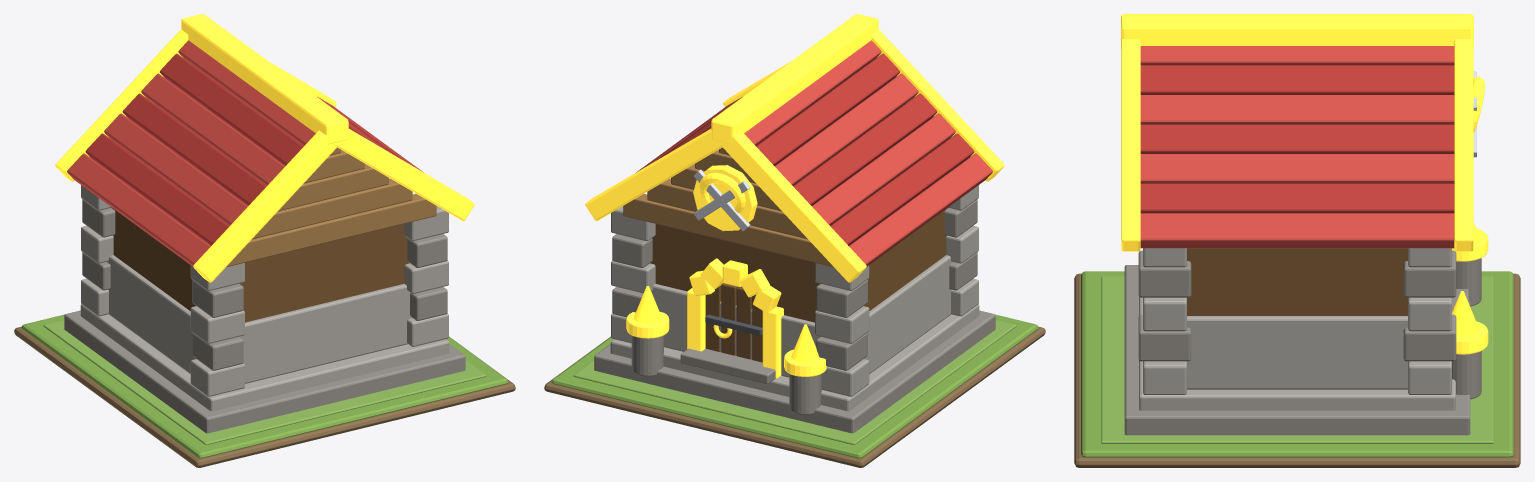
Rendered from hero_hall_lv2.glb.
3 views of the same model, side by side, from view 1: azimuth 30°, elevation 25°; view 2: azimuth 150°, elevation 25°; view 3: azimuth 270°, elevation 25° (orthographic). The views are drawn at different scales.
Parts seen in each view (by area): view 1: HeroStoneWainscot, HeroHallCore, HeroPlinth1, Base_Grass, HeroPlinth2, RidgeBeam, Base_Inner, Base_Dirt, Bargeboard_-1_-1, RoofSlope_-1_6, Gable_-1_0, RoofSlope_-1_4 (+24 smaller); view 2: HeroHallCore, HeroPlinth1, HeroStoneWainscot, Base_Grass, RidgeBeam, Base_Inner, Base_Dirt, Bargeboard_1_-1, HeroPlinth2, RoofSlope_-1_6, RoofSlope_-1_4, RoofSlope_-1_5 (+44 smaller); view 3: HeroStoneWainscot, HeroHallCore, Base_Grass, HeroPlinth1, RoofSlope_1_6, RidgeBeam, Base_Inner, RoofSlope_1_5, RoofSlope_1_1, RoofSlope_1_2, RoofSlope_1_4, RoofSlope_1_3 (+20 smaller).
Part boxes in pixels (x1,y1,x2,y2): HeroStoneWainscot: (107,255,412,383); HeroHallCore: (111,207,409,322); HeroPlinth1: (64,310,465,433); Base_Grass: (21,314,508,458); HeroPlinth2: (80,304,449,411); RidgeBeam: (181,14,348,144); Base_Inner: (43,320,486,444); Base_Dirt: (14,326,515,467); Bargeboard_-1_-1: (193,130,341,282); RoofSlope_-1_6: (67,153,210,266); Gable_-1_0: (226,194,436,267); RoofSlope_-1_4: (104,113,247,225); HeroHallCore: (650,207,948,322); HeroPlinth1: (594,310,995,433); HeroStoneWainscot: (651,255,952,377); Base_Grass: (551,314,1038,458); RidgeBeam: (711,14,878,144); Base_Inner: (573,320,1016,444); Base_Dirt: (544,326,1045,467); Bargeboard_1_-1: (719,130,866,282); HeroPlinth2: (610,304,979,411); RoofSlope_-1_6: (849,153,992,266); RoofSlope_-1_4: (812,113,955,225); RoofSlope_-1_5: (830,133,974,245); HeroStoneWainscot: (1187,316,1407,389); HeroHallCore: (1187,248,1407,315); Base_Grass: (1081,271,1513,457); HeroPlinth1: (1124,265,1470,435); RoofSlope_1_6: (1140,213,1454,248); RidgeBeam: (1121,14,1473,48); Base_Inner: (1101,276,1493,443); RoofSlope_1_5: (1140,183,1454,213); RoofSlope_1_1: (1140,65,1454,94); RoofSlope_1_2: (1140,95,1454,124); RoofSlope_1_4: (1140,154,1454,183); RoofSlope_1_3: (1140,124,1454,153).
Size of the model in its own units: 2.76 by 2.43 by 2.76.
